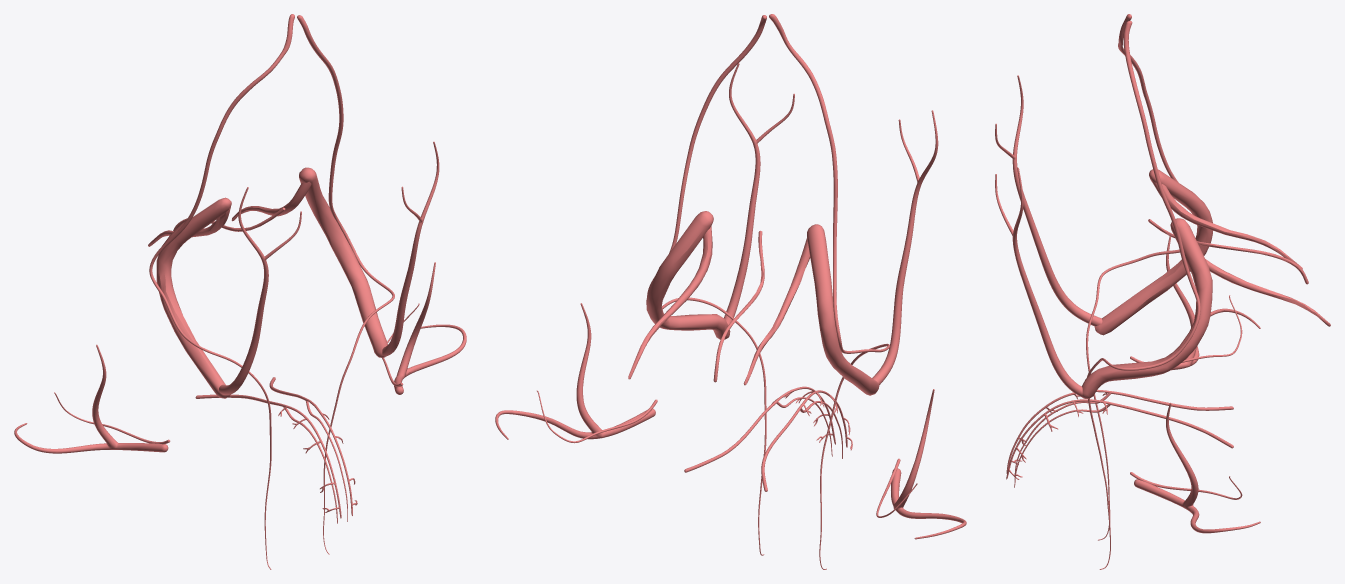
Rendered from arteres-bassin.hi.glb.
3 views of the same model, side by side, from view 1: azimuth 30°, elevation 25°; view 2: azimuth 150°, elevation 25°; view 3: azimuth 270°, elevation 25° (orthographic). The views are drawn at different scales.
Parts seen in each view (by area): view 1: FJ3567, FJ3466, FJ3617, FJ3532, FJ2195, FJ3614, FJ3529, FJ2091, FJ3592, FJ3468, FJ3496; view 2: FJ3466, FJ3567, FJ3617, FJ3614, FJ3532, FJ2091, FJ3529, FJ2195, FJ3468, FJ3569, FJ3496, FJ3592 (+1 smaller); view 3: FJ3466, FJ3567, FJ3532, FJ3614, FJ3529, FJ3617, FJ2091, FJ3569, FJ3496, FJ3592, FJ3468, FJ2195 (+1 smaller).
Part boxes in pixels (x1=…): FJ3567: x1=156, y1=197, x2=231, y2=398; FJ3466: x1=299, y1=167, x2=387, y2=357; FJ3617: x1=149, y1=14, x2=294, y2=569; FJ3532: x1=297, y1=15, x2=394, y2=554; FJ2195: x1=14, y1=344, x2=168, y2=453; FJ3614: x1=219, y1=187, x2=301, y2=394; FJ3529: x1=382, y1=141, x2=439, y2=356; FJ2091: x1=394, y1=262, x2=466, y2=394; FJ3592: x1=195, y1=394, x2=341, y2=518; FJ3468: x1=231, y1=181, x2=311, y2=221; FJ3496: x1=269, y1=377, x2=357, y2=515; FJ3466: x1=646, y1=211, x2=730, y2=339; FJ3567: x1=807, y1=224, x2=879, y2=395; FJ3617: x1=769, y1=14, x2=890, y2=569; FJ3614: x1=872, y1=110, x2=938, y2=384; FJ3532: x1=647, y1=15, x2=766, y2=555; FJ2091: x1=495, y1=303, x2=655, y2=439; FJ3529: x1=724, y1=63, x2=794, y2=324; FJ2195: x1=891, y1=389, x2=966, y2=539; FJ3468: x1=628, y1=226, x2=712, y2=379; FJ3569: x1=743, y1=238, x2=810, y2=385; FJ3496: x1=684, y1=386, x2=835, y2=472; FJ3592: x1=761, y1=390, x2=852, y2=491; FJ3466: x1=1082, y1=218, x2=1212, y2=398; FJ3567: x1=1094, y1=169, x2=1212, y2=335; FJ3532: x1=1087, y1=21, x2=1200, y2=569; FJ3614: x1=995, y1=75, x2=1102, y2=326; FJ3529: x1=995, y1=167, x2=1082, y2=397; FJ3617: x1=1086, y1=14, x2=1179, y2=540; FJ2091: x1=1134, y1=402, x2=1260, y2=533; FJ3569: x1=1152, y1=181, x2=1302, y2=269; FJ3496: x1=1006, y1=399, x2=1233, y2=479; FJ3592: x1=1006, y1=389, x2=1233, y2=473; FJ3468: x1=1205, y1=259, x2=1330, y2=326; FJ2195: x1=1166, y1=236, x2=1260, y2=370.
Bounding box in the file's own units: 0.2939 × 0.3375 × 0.1887.
